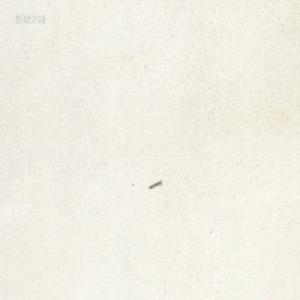Bolt: (147, 178, 161, 189)
